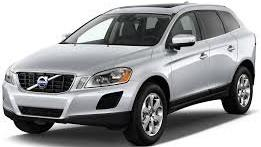SUV: (3, 6, 256, 145)
